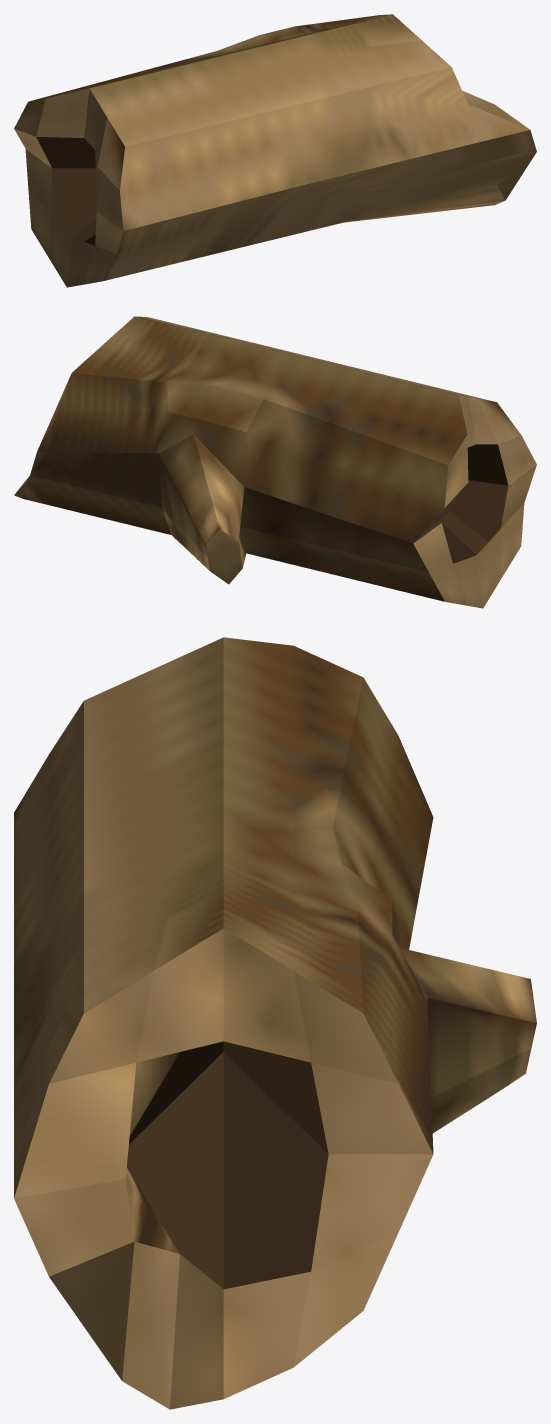
Rendered from Poly_Log_01.obj.
3 views of the same model, one above another, from view 1: azimuth 30°, elevation 25°; view 2: azimuth 150°, elevation 25°; view 3: azimuth 270°, elevation 25° (orthographic). The views are drawn at different scales.
Visible parts, largest first — view 1: Cube; view 2: Cube; view 3: Cube.
Part boxes in pixels (x1=…): Cube: x1=14, y1=14, x2=536, y2=287; Cube: x1=14, y1=316, x2=536, y2=608; Cube: x1=14, y1=637, x2=536, y2=1409.
Bounding box in the file's own units: 1.41 × 0.6266 × 0.7481.
1 material, 1 textured.
